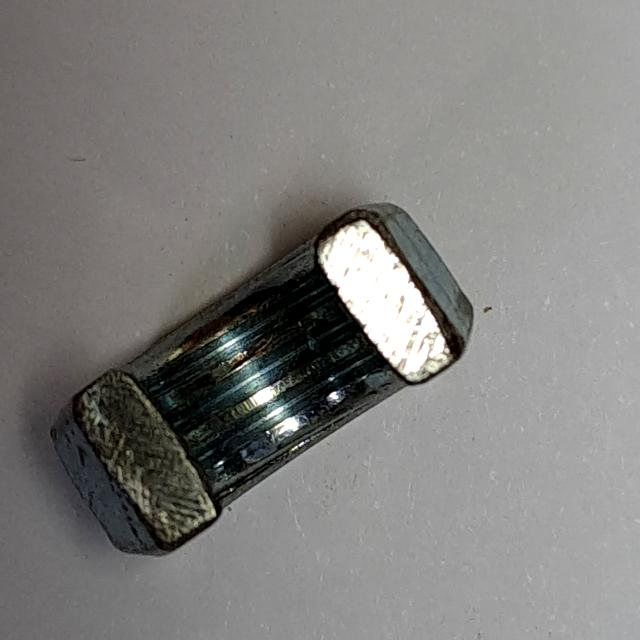Side-Fracture: (36, 192, 488, 571)
